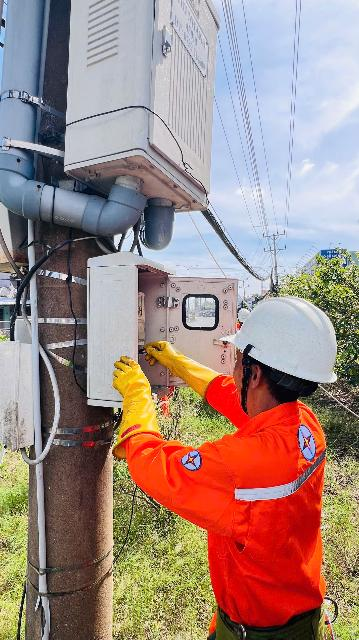gloves: (96, 357, 177, 447), (146, 329, 231, 409)
harness: (201, 588, 359, 640)
helmet: (213, 292, 347, 393)
